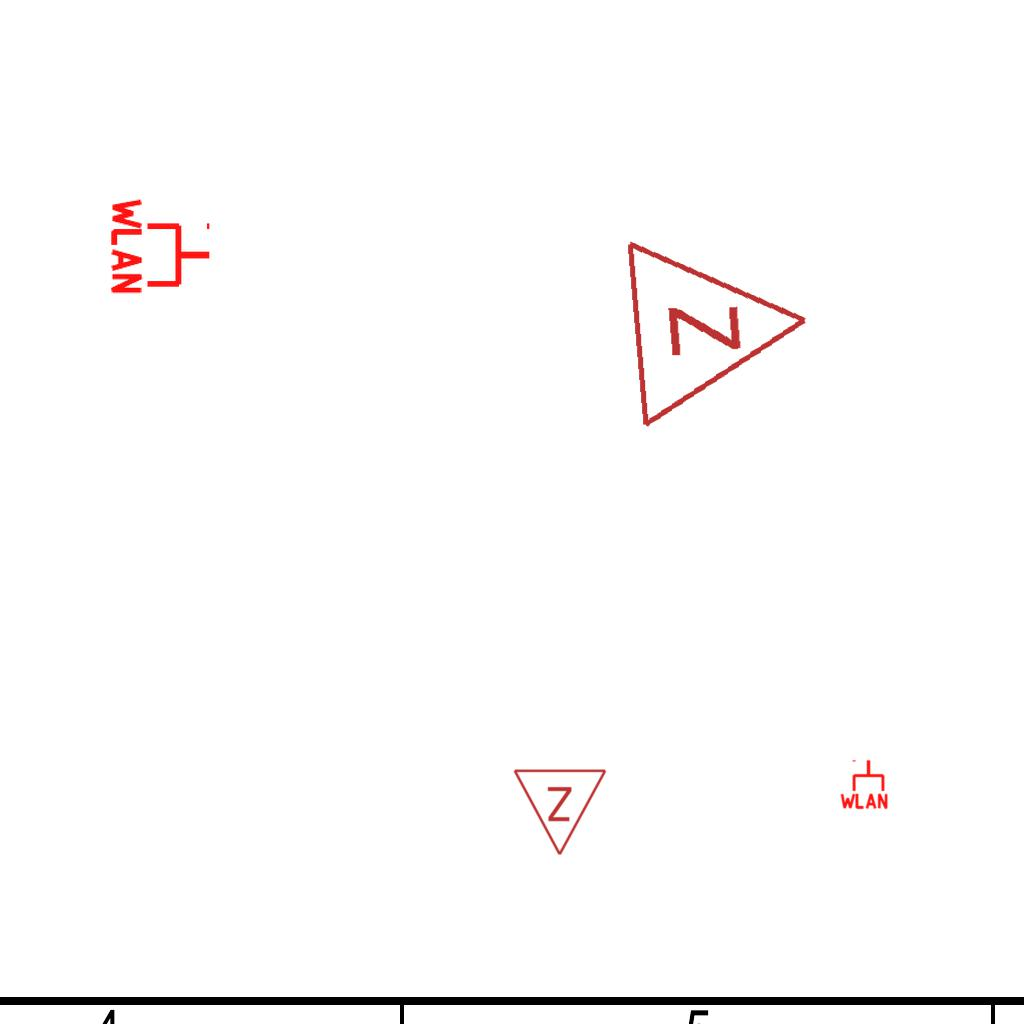WLAN: (109, 194, 214, 298), (838, 758, 890, 810)
Zimmersignalleuchte: (611, 218, 829, 432), (512, 762, 610, 862)
